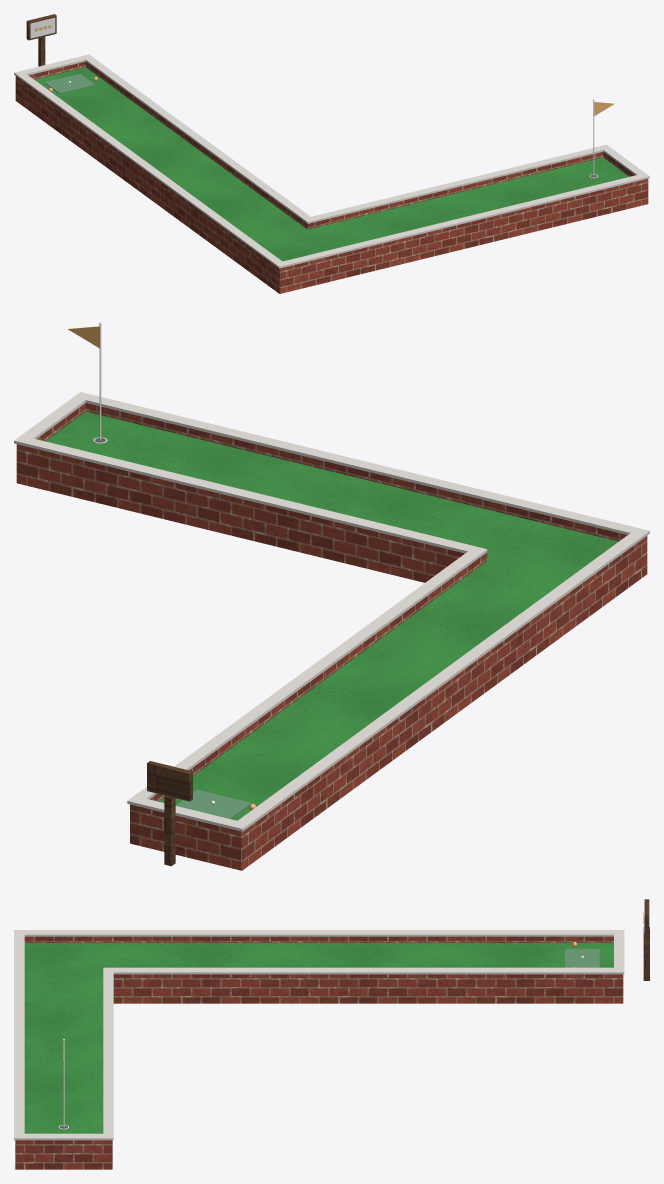
The model's file is hole_4.glb.
3 renders of one model, top to bottom at view 1: azimuth 30°, elevation 25°; view 2: azimuth 150°, elevation 25°; view 3: azimuth 270°, elevation 25°, orthographic. The views are drawn at different scales.
Visible parts, largest first — view 1: hole_4_brick, hole_4_turf, hole_4_coping, hole_4_tee_m, hole_4_paint_w, hole_4_dkwood; view 2: hole_4_turf, hole_4_brick, hole_4_coping, hole_4_dkwood, hole_4_tee_m; view 3: hole_4_turf, hole_4_brick, hole_4_coping, hole_4_tee_m, hole_4_dkwood.
Part boxes in pixels (x1=…): hole_4_brick: x1=15, y1=61, x2=648, y2=293; hole_4_turf: x1=34, y1=67, x2=629, y2=261; hole_4_coping: x1=14, y1=54, x2=649, y2=268; hole_4_tee_m: x1=44, y1=74, x2=94, y2=93; hole_4_paint_w: x1=30, y1=17, x2=598, y2=178; hole_4_dkwood: x1=26, y1=14, x2=56, y2=66; hole_4_turf: x1=45, y1=411, x2=618, y2=820; hole_4_brick: x1=16, y1=403, x2=647, y2=870; hole_4_coping: x1=14, y1=392, x2=649, y2=831; hole_4_dkwood: x1=147, y1=761, x2=192, y2=866; hole_4_tee_m: x1=175, y1=789, x2=251, y2=819; hole_4_turf: x1=24, y1=943, x2=613, y2=1133; hole_4_brick: x1=15, y1=936, x2=623, y2=1169; hole_4_coping: x1=14, y1=930, x2=624, y2=1140; hole_4_tee_m: x1=565, y1=949, x2=599, y2=967; hole_4_dkwood: x1=643, y1=899, x2=649, y2=980.
Bounding box in the file's own units: 6.27 × 1.57 × 8.1.
Materials: 10 (4 with a texture image).
